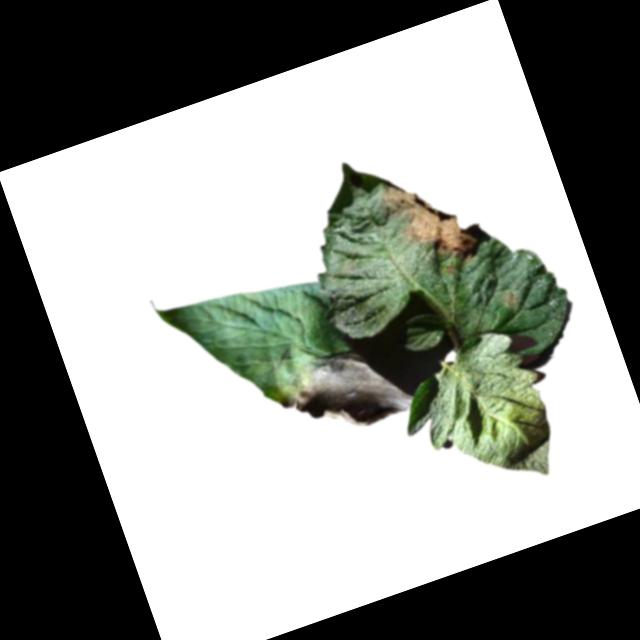Late_blight: (271, 333, 417, 451), (374, 152, 497, 283), (498, 285, 526, 314)
healthy: (384, 320, 569, 515)
